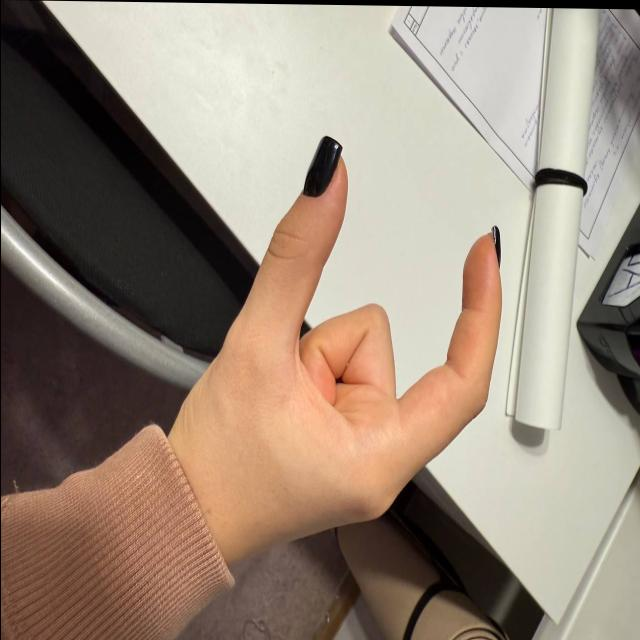uh: (188, 116, 546, 591)
